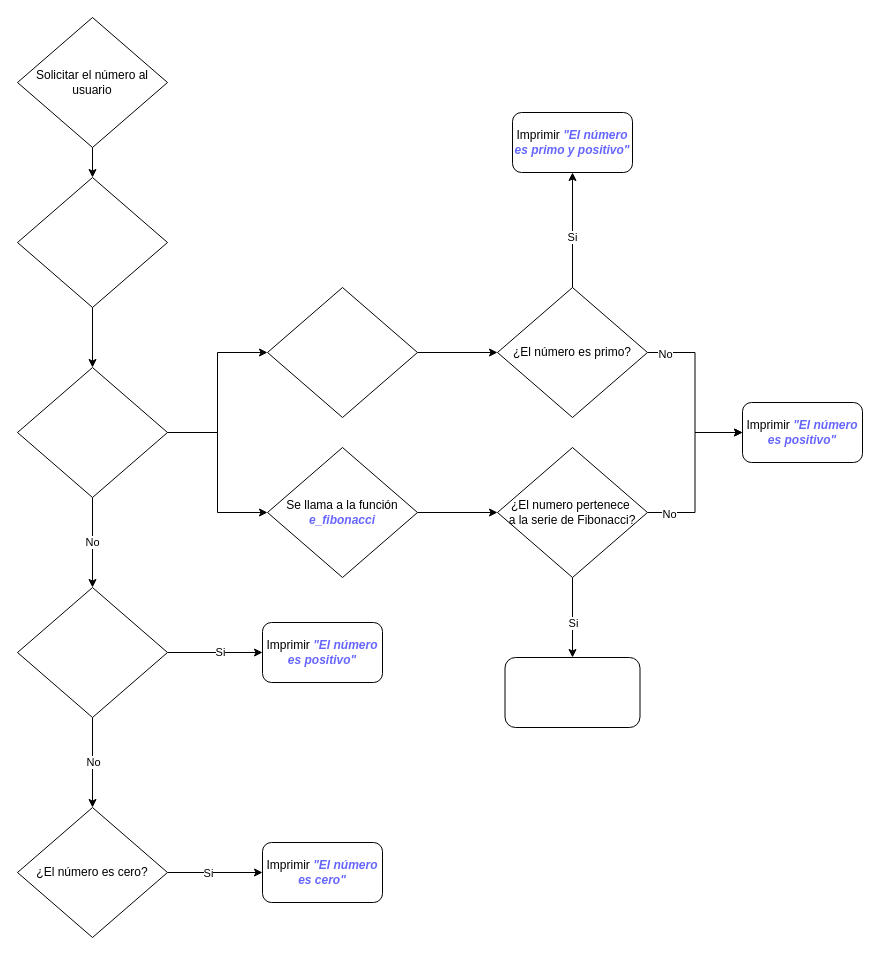
Image size: 880x955. Some labels were removed from this diagram. Here are the shapes that lost their labels. From the top down, the centre of each, then its label:
(92,242): El número llega a la función check_num
(342,352): Se llama a la función num_primo
(92,432): ¿El número es positivo?
(92,652): ¿El número es negativo?
(572,692): Imprimir "El número pertece a la serie de Fibonacci y es positivo"
